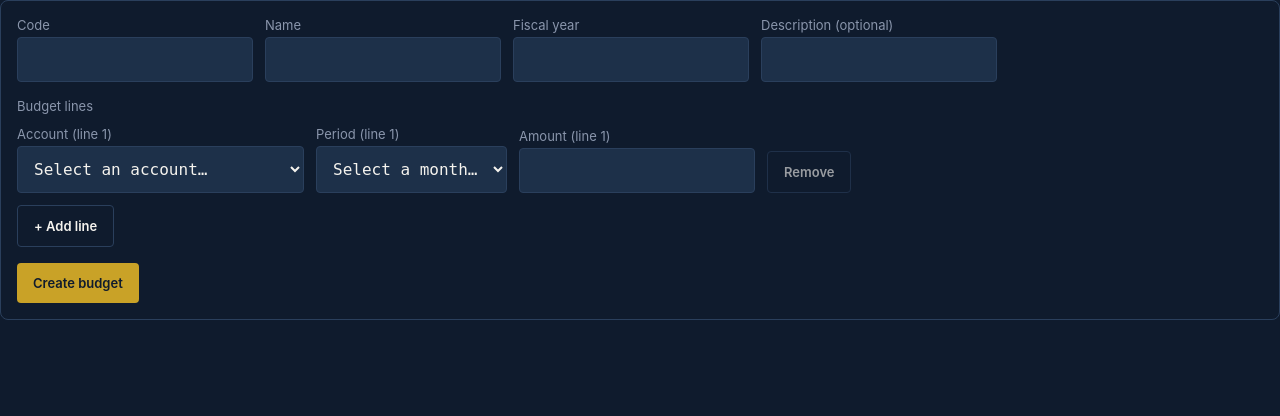
CreateBudgetForm › adds a new, independently-fillable line when "+ Add line" is clicked
The width and height of the screenshot is (1280, 416).
Click the button "+ Add line".
click(66, 226)  # box [17, 205, 114, 247]
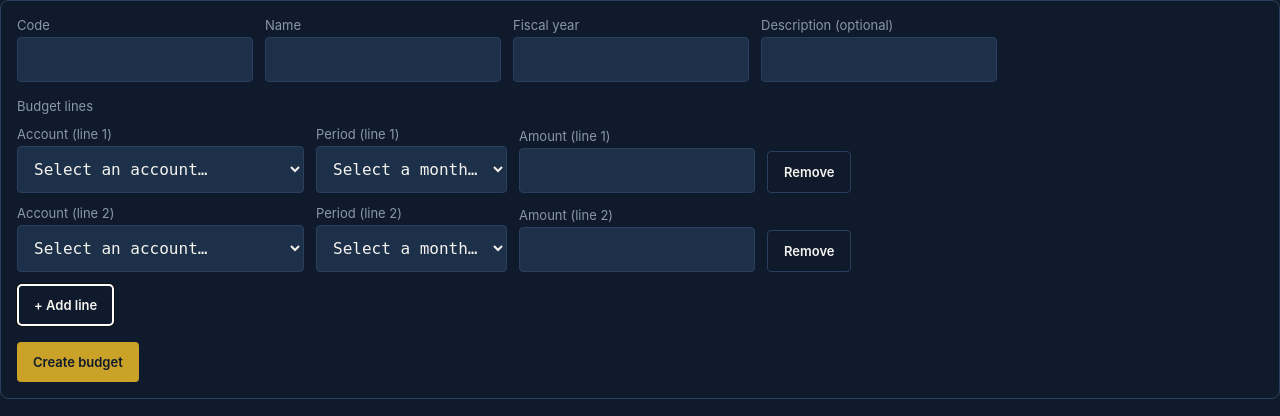
Expected: the dropdown labelled "Account (line 2)" is shown, [17, 225, 304, 272]
Expected: the dropdown labelled "Period (line 2)" is shown, [316, 225, 507, 272]
Expected: the number field labelled "Amount (line 2)" is shown, [519, 227, 755, 272]
